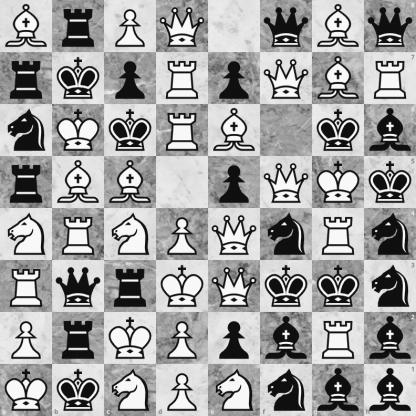B: (1, 1, 52, 52), (53, 157, 104, 208), (105, 157, 156, 208), (209, 105, 260, 156), (313, 1, 364, 52), (313, 53, 364, 104)
K: (0, 364, 52, 416), (53, 105, 104, 156), (105, 313, 156, 364), (157, 261, 208, 312), (313, 157, 364, 208)
N: (104, 364, 156, 416), (209, 364, 260, 416), (1, 209, 52, 260), (105, 209, 156, 260)
P: (156, 364, 209, 416), (1, 313, 52, 364), (105, 1, 156, 52), (157, 209, 208, 260), (157, 313, 208, 364)
Q: (157, 1, 208, 52), (209, 209, 260, 260), (209, 261, 260, 312), (261, 53, 312, 104), (261, 157, 312, 208)
R: (364, 52, 416, 104), (1, 261, 52, 312), (53, 209, 104, 260), (157, 53, 208, 104), (157, 105, 208, 156), (313, 209, 364, 260), (313, 313, 364, 364)
b: (312, 364, 364, 416), (364, 104, 416, 156), (364, 312, 416, 364), (364, 364, 416, 416), (261, 313, 312, 364)
board: (0, 0, 415, 415)
k: (364, 156, 416, 209), (52, 364, 104, 416), (53, 53, 104, 104), (105, 105, 156, 156), (261, 261, 312, 312), (313, 105, 364, 156), (313, 261, 364, 312)
n: (260, 364, 312, 416), (364, 260, 416, 312), (364, 209, 416, 260), (1, 105, 52, 156), (261, 209, 312, 260)
p: (105, 53, 156, 104), (209, 53, 260, 104), (209, 157, 260, 208), (209, 313, 260, 364)
q: (364, 0, 416, 52), (53, 261, 104, 312), (261, 1, 312, 52)
r: (1, 53, 52, 104), (1, 157, 52, 208), (53, 1, 104, 52), (53, 313, 104, 364), (105, 261, 156, 312)
